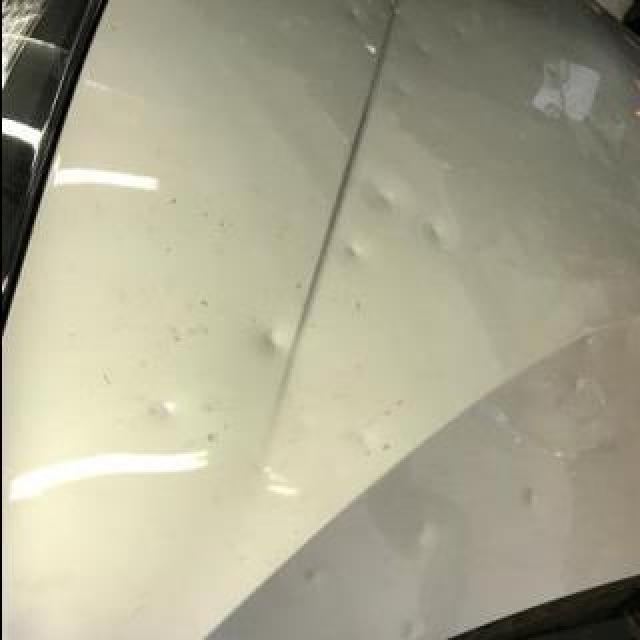dent: (255, 330, 283, 356), (410, 521, 432, 549), (372, 192, 398, 212), (152, 401, 178, 421), (423, 227, 447, 247), (341, 9, 365, 27), (299, 566, 319, 584), (516, 490, 536, 508), (341, 245, 361, 261), (410, 44, 432, 58), (381, 1, 399, 15), (447, 27, 465, 39)
